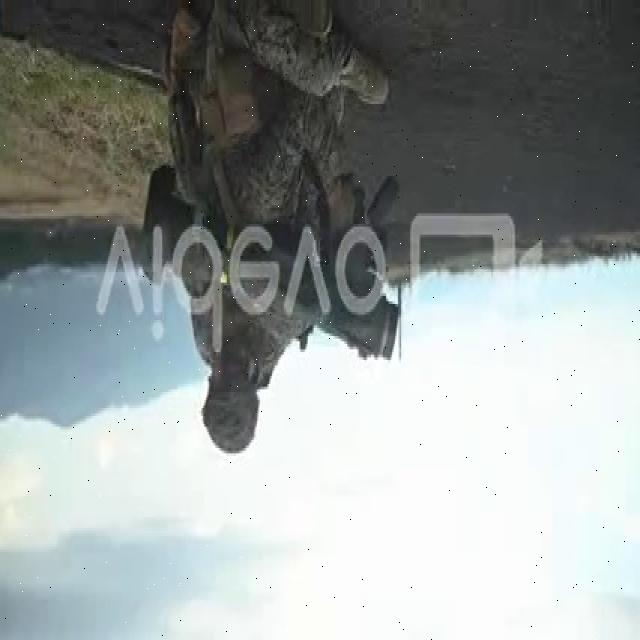bazooka: (134, 161, 404, 373)
